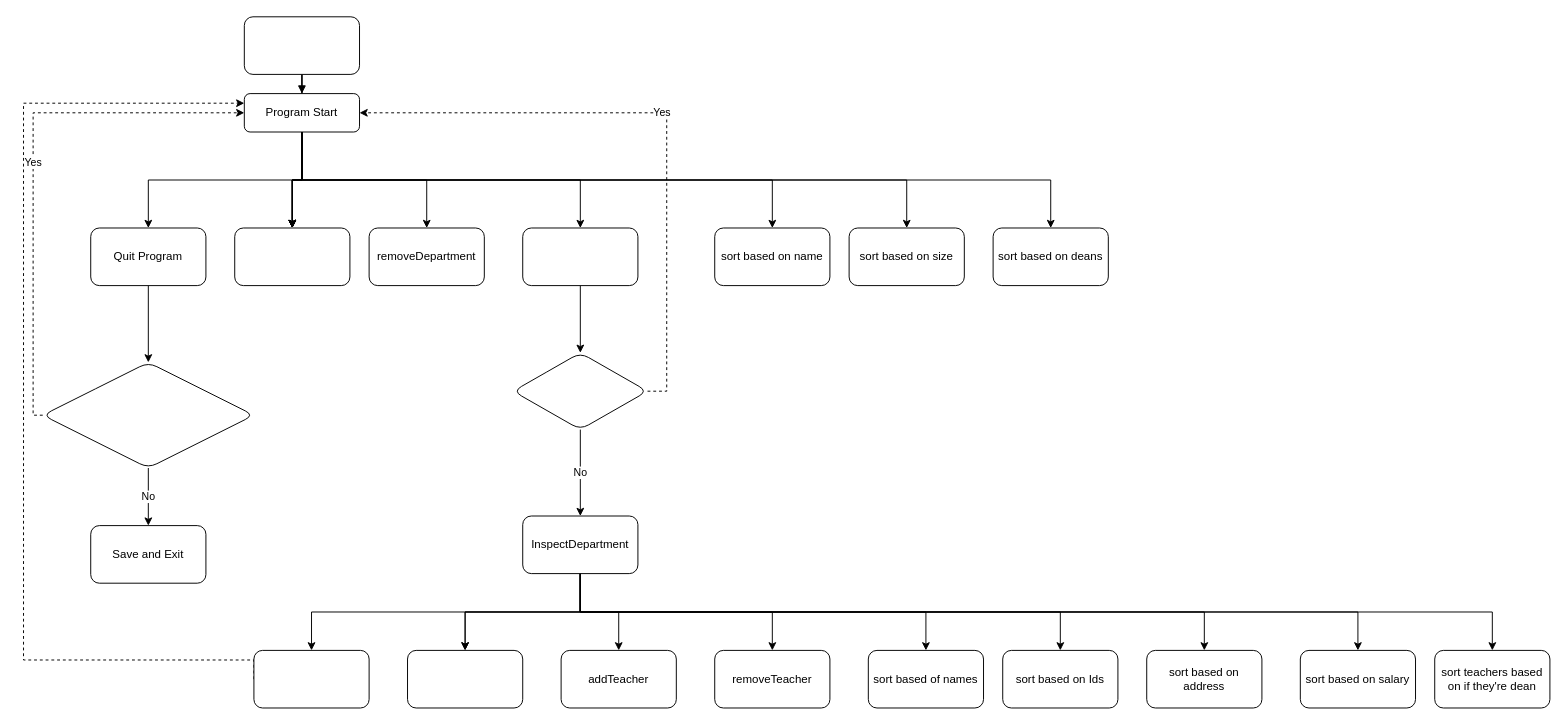
Some shapes in this 1567 by 725 pixel diagram are drawn without their labels. Each missing label, with the box of its shape:
addDepartment: (234, 227, 350, 286)
Are the departments empty and is there a department without dean?: (42, 361, 254, 468)
getDepartment: (522, 227, 638, 286)
go Back: (253, 649, 369, 708)
Is department null?: (512, 352, 648, 430)
Load saved data: (243, 16, 360, 74)
removeStaff: (407, 649, 523, 708)
